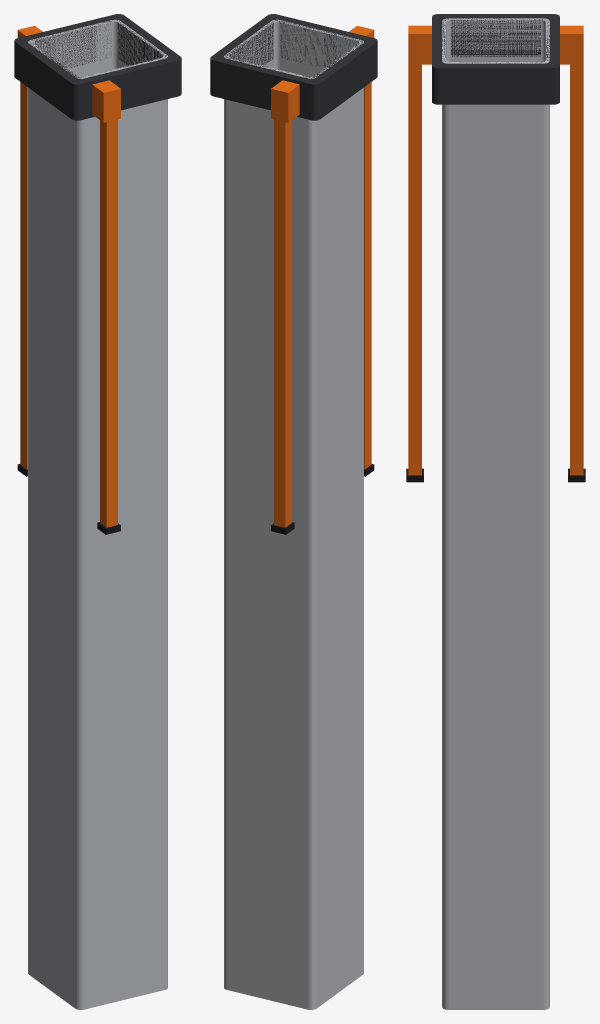
3 views of the same model, side by side, from view 1: azimuth 30°, elevation 25°; view 2: azimuth 150°, elevation 25°; view 3: azimuth 270°, elevation 25° (orthographic).
Visible parts, largest first — view 1: piece (×5); view 2: piece (×5); view 3: piece (×6).
Boxes of the visible parts, <box> form: piece (×5): <box>14,14,181,1009</box>; piece (×5): <box>210,14,377,1009</box>; piece (×6): <box>408,14,583,1009</box>.
Bounding box in the file's own units: 0.19 × 0.266 × 1.55.
